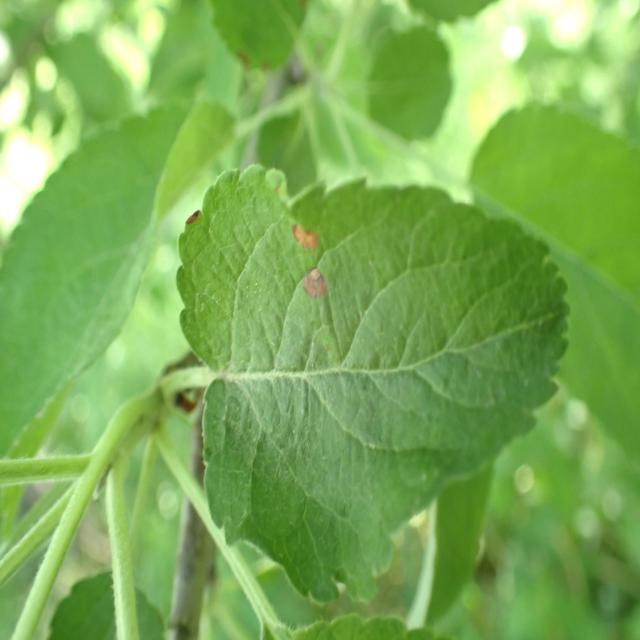frog-eye-leaf-spot: (174, 168, 572, 606)
